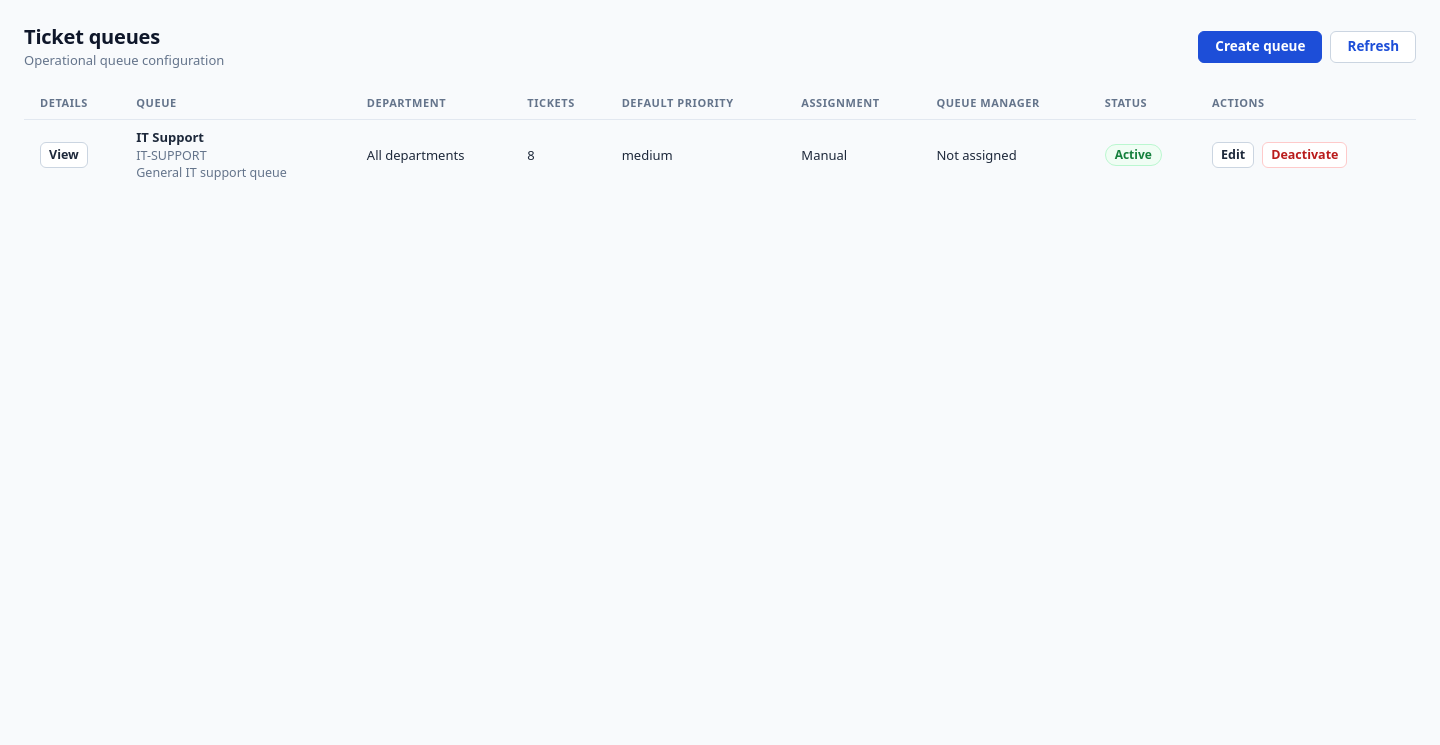
Test: TicketQueuesPage › adds an Agent with the selected membership permissions
Click the button "View". click: (64, 155)
box: [40, 142, 88, 168]
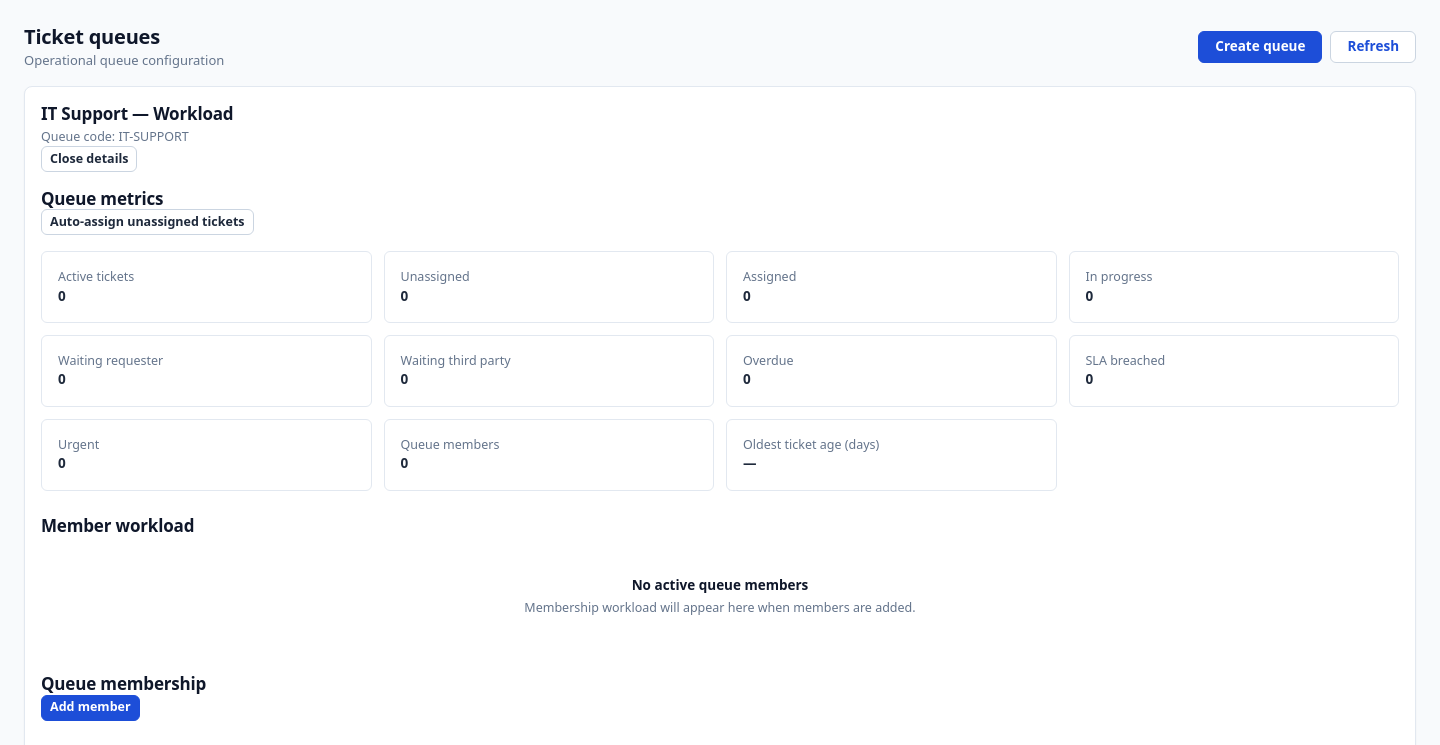
Expected: the heading "Queue membership" is shown, [41, 672, 206, 696]
Click the button "Add member". click: (90, 708)
box: [41, 695, 140, 721]
(page scrolled)
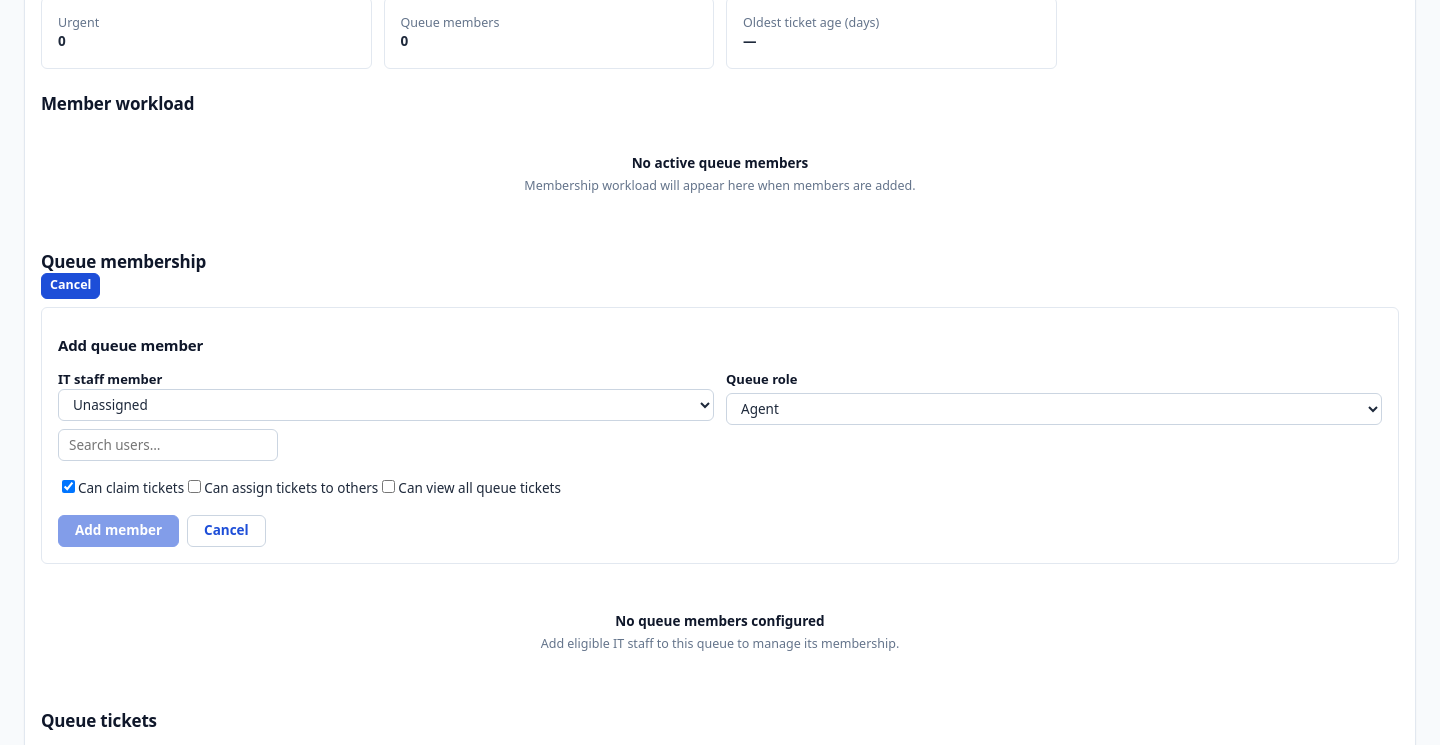
Select "EMP-007 — agent@example.com" in the dropdown named "Queue member". click: (386, 405)
box: [58, 389, 714, 421]
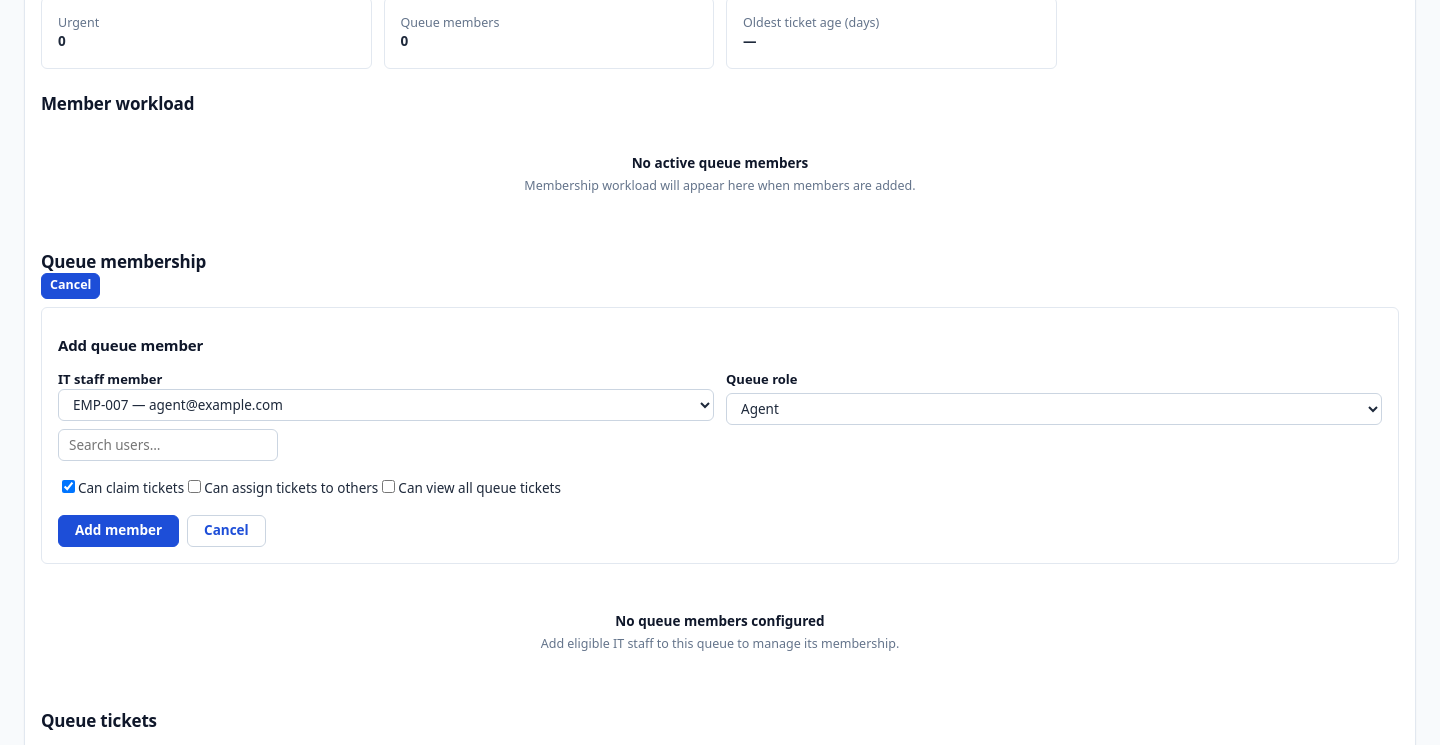
Click the checkbox labelled "Can assign tickets to others". click: (195, 487)
box: [188, 480, 201, 493]
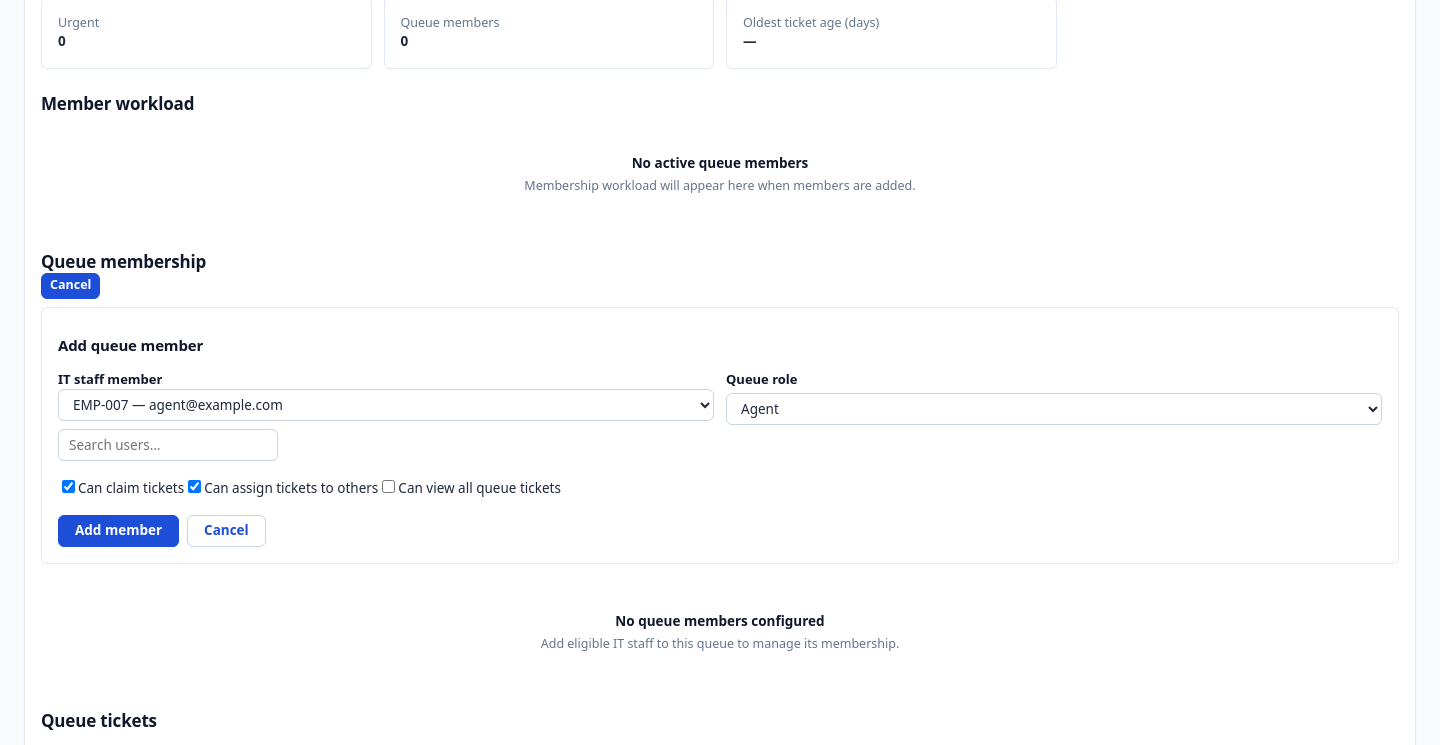
Click the checkbox labelled "Can view all queue tickets". click: (389, 487)
box: [382, 480, 395, 493]
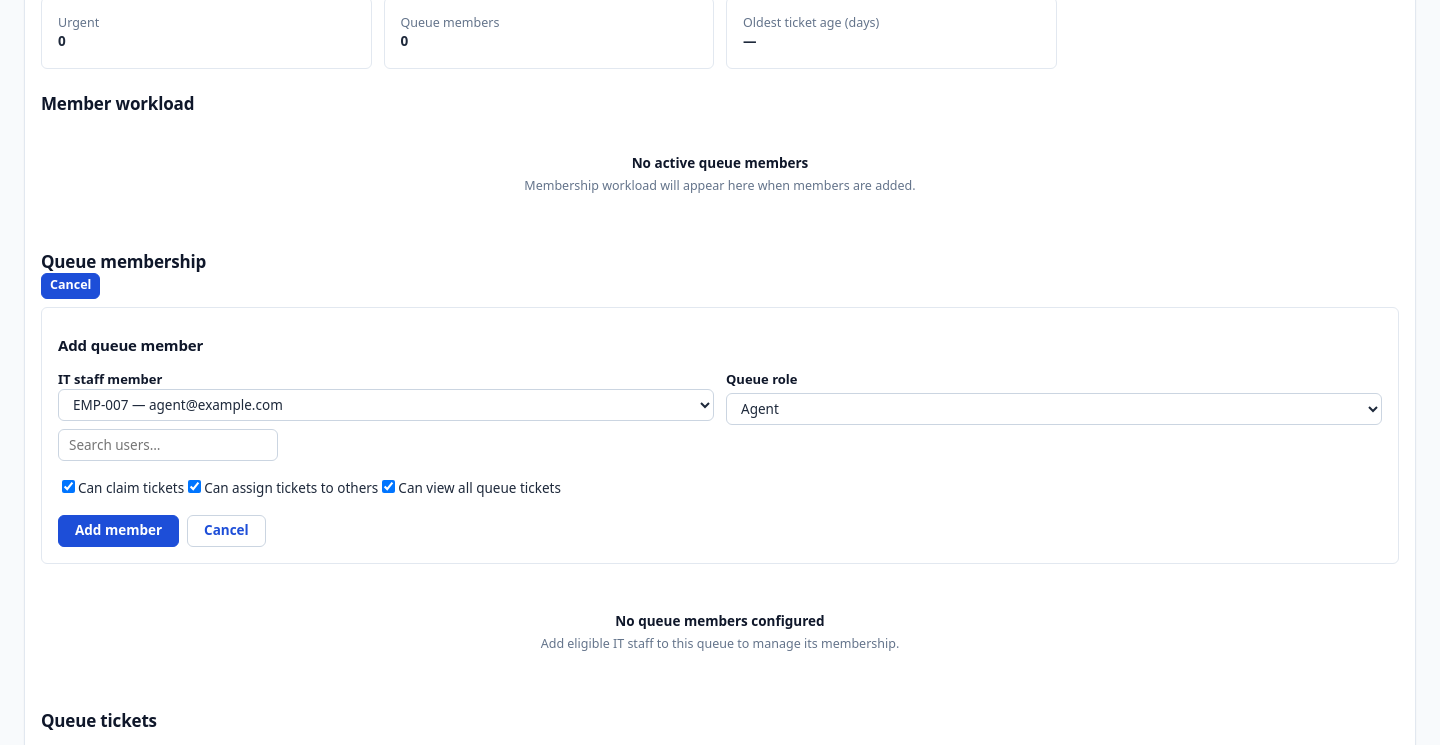
Click the submit button. click: (119, 531)
box: [58, 515, 179, 547]
(page scrolled)
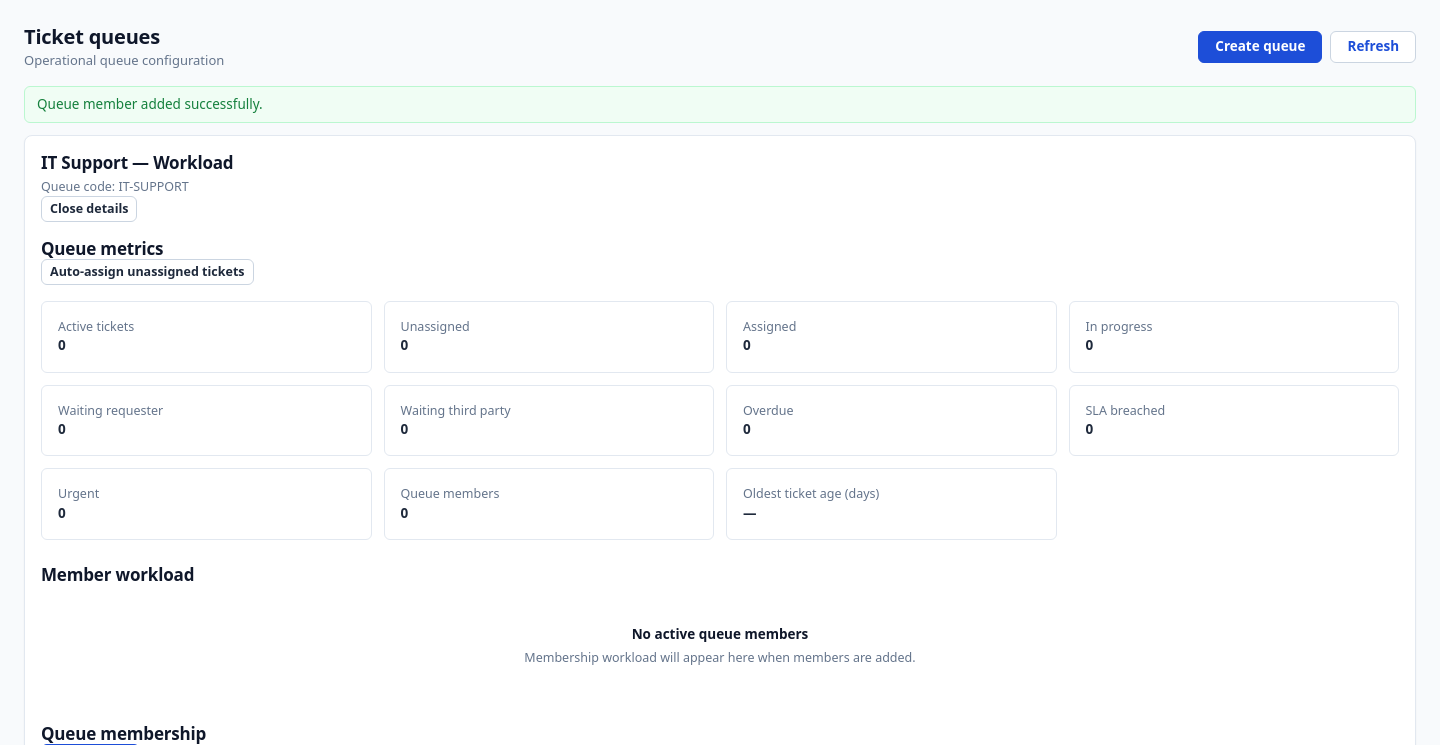
Expected: the text "Queue member added successfully." is shown, [24, 86, 1416, 123]
